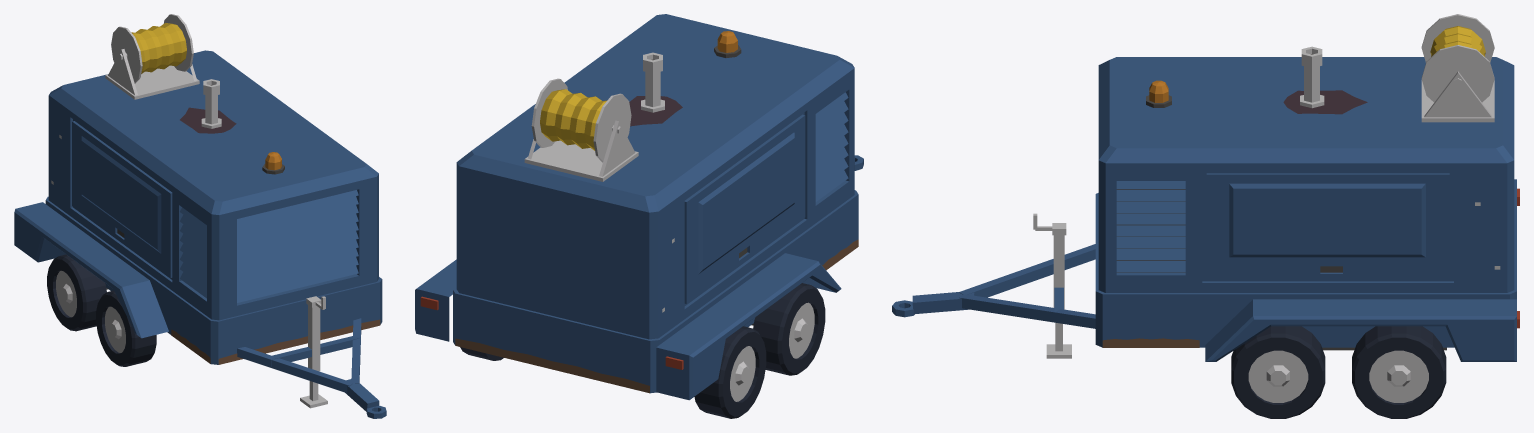
File: ground-power-unit-326361.glb
3 renders of one model, left to right at view 1: azimuth 30°, elevation 25°; view 2: azimuth 150°, elevation 25°; view 3: azimuth 270°, elevation 25°, orthographic. The views are drawn at different scales.
Parts seen in each view (by area): view 1: body, wheel-rr-mesh, wheel-fr-mesh; view 2: body, wheel-fr-mesh, wheel-rr-mesh; view 3: body, wheel-rl-mesh, wheel-fl-mesh.
Boxes of the visible parts, box(x1,y1,x2,y2) form: body: box(14, 14, 386, 418); wheel-rr-mesh: box(47, 254, 106, 331); wheel-fr-mesh: box(96, 290, 156, 366); body: box(415, 14, 863, 400); wheel-fr-mesh: box(753, 283, 825, 375); wheel-rr-mesh: box(694, 326, 766, 418); body: box(892, 14, 1519, 361); wheel-rl-mesh: box(1352, 326, 1446, 418); wheel-fl-mesh: box(1231, 326, 1325, 418).
Size of the model in its own units: 2.34 by 2.54 by 4.47.
